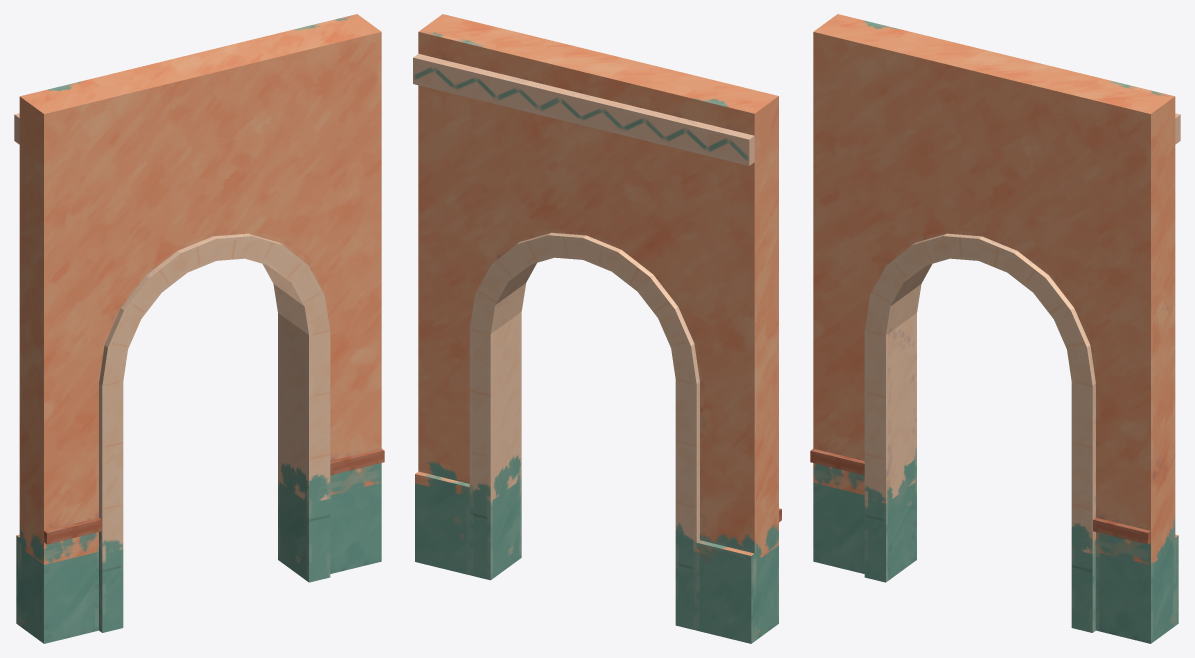
File: wall2_door_low.fbx
3 views of the same model, side by side, from view 1: azimuth 30°, elevation 25°; view 2: azimuth 150°, elevation 25°; view 3: azimuth 330°, elevation 25° (orthographic).
Visible parts, largest first — view 1: wall2_door; view 2: wall2_door; view 3: wall2_door.
Boxes of the visible parts, left/top/right/bottom form: wall2_door: left=14, top=14, right=384, bottom=643; wall2_door: left=413, top=14, right=781, bottom=643; wall2_door: left=810, top=14, right=1180, bottom=643.
Size of the model in its own units: 8 by 12 by 1.36.
Materials: 1 (1 with a texture image).
